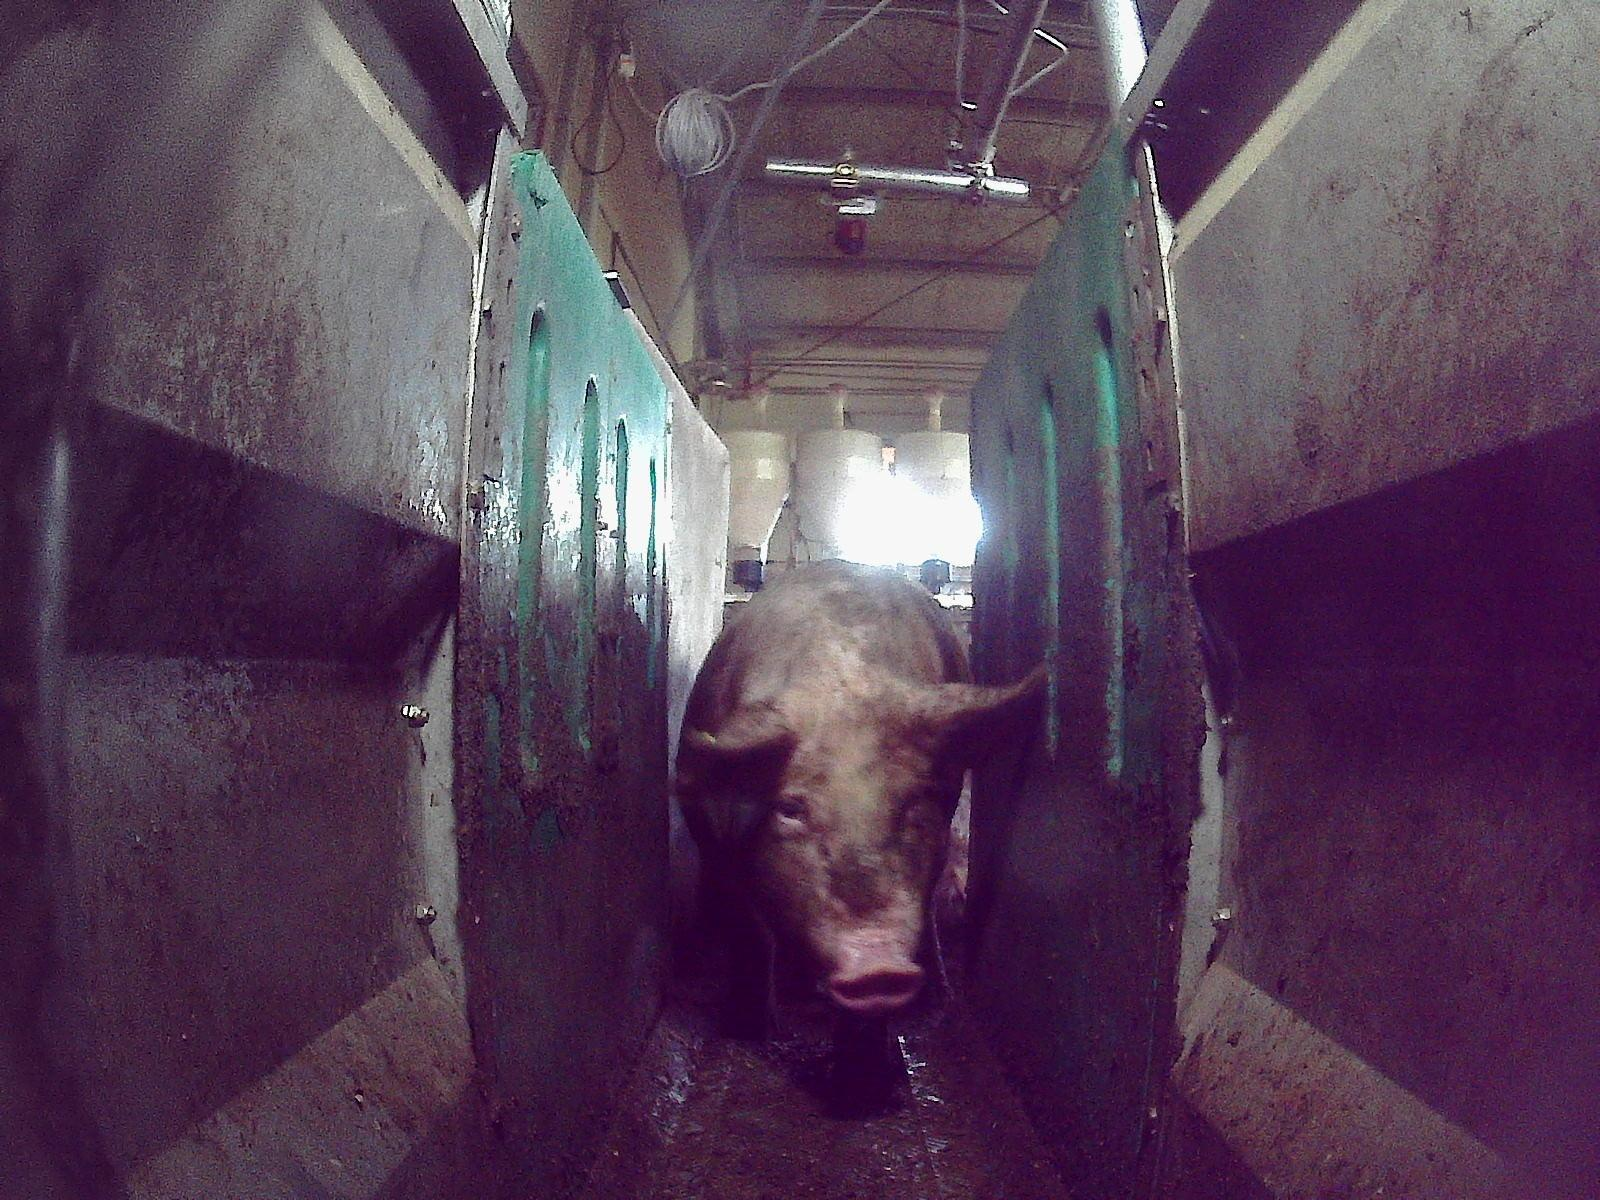Face: (733, 690, 947, 1013)
